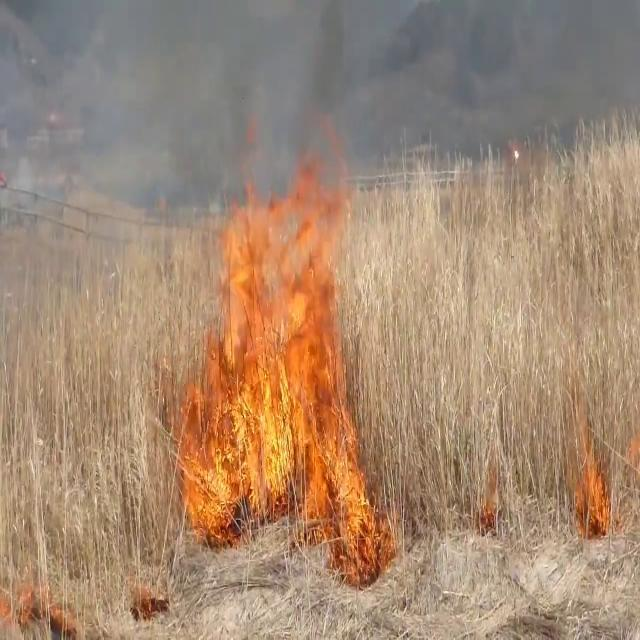Fire: (182, 156, 378, 536)
Smoke: (0, 0, 640, 265)
